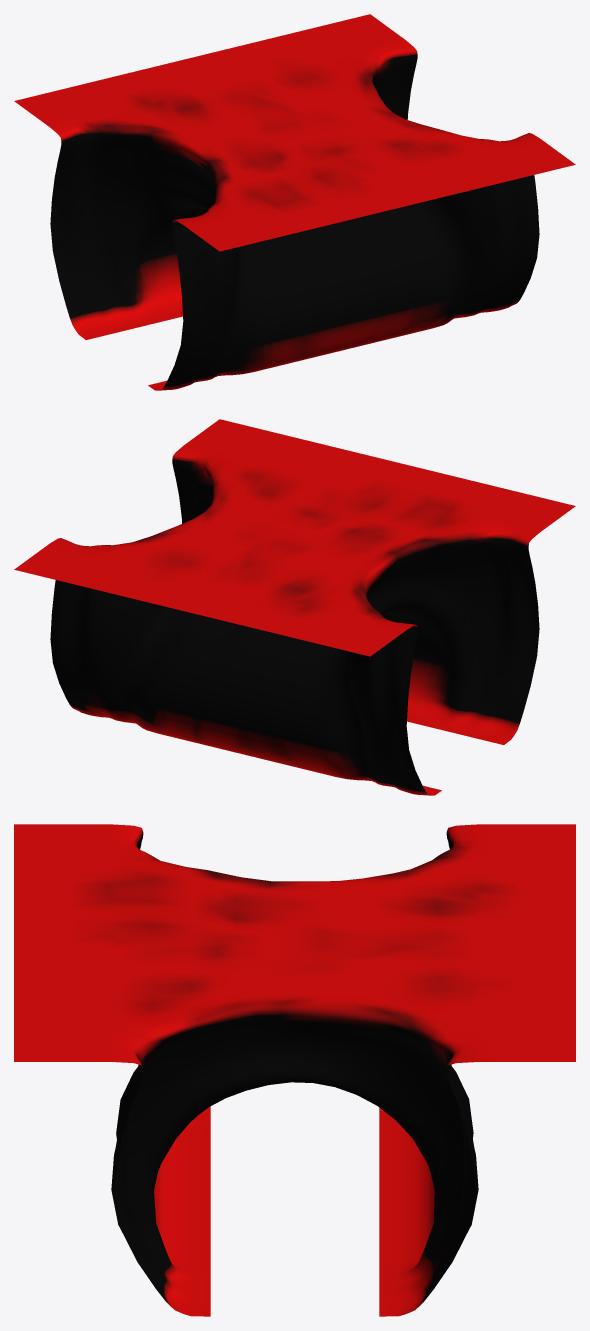
Rendered from CrossingCliff03C 2M Foreground.fbx.
3 views of the same model, one above another, from view 1: azimuth 30°, elevation 25°; view 2: azimuth 150°, elevation 25°; view 3: azimuth 270°, elevation 25° (orthographic). The views are drawn at different scales.
Visible parts, largest first — view 1: CrossingCliff03C 2M Foreground; view 2: CrossingCliff03C 2M Foreground; view 3: CrossingCliff03C 2M Foreground.
Boxes of the visible parts, left/top/right/bottom form: CrossingCliff03C 2M Foreground: left=14, top=14, right=575, bottom=390; CrossingCliff03C 2M Foreground: left=14, top=419, right=575, bottom=795; CrossingCliff03C 2M Foreground: left=14, top=824, right=575, bottom=1316.
Size of the model in its own units: 4 by 2.01 by 4.
